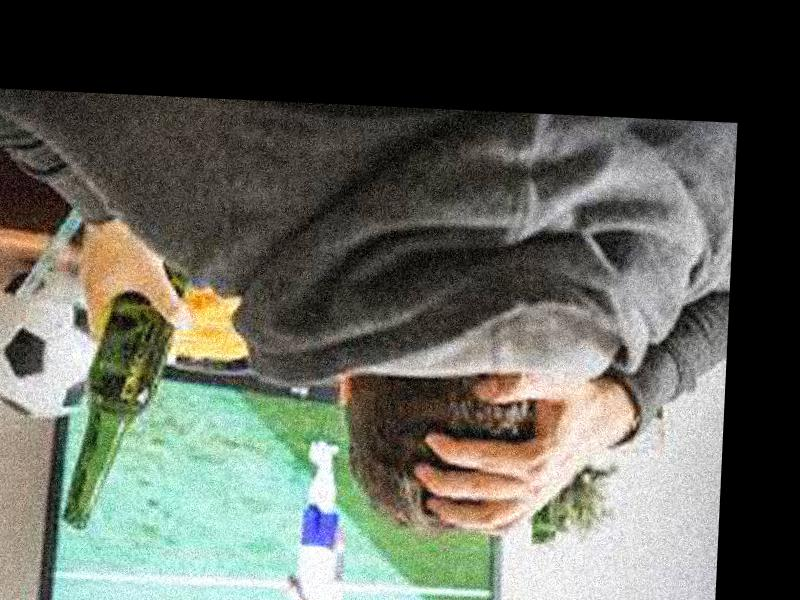Beer: (62, 252, 180, 532)
